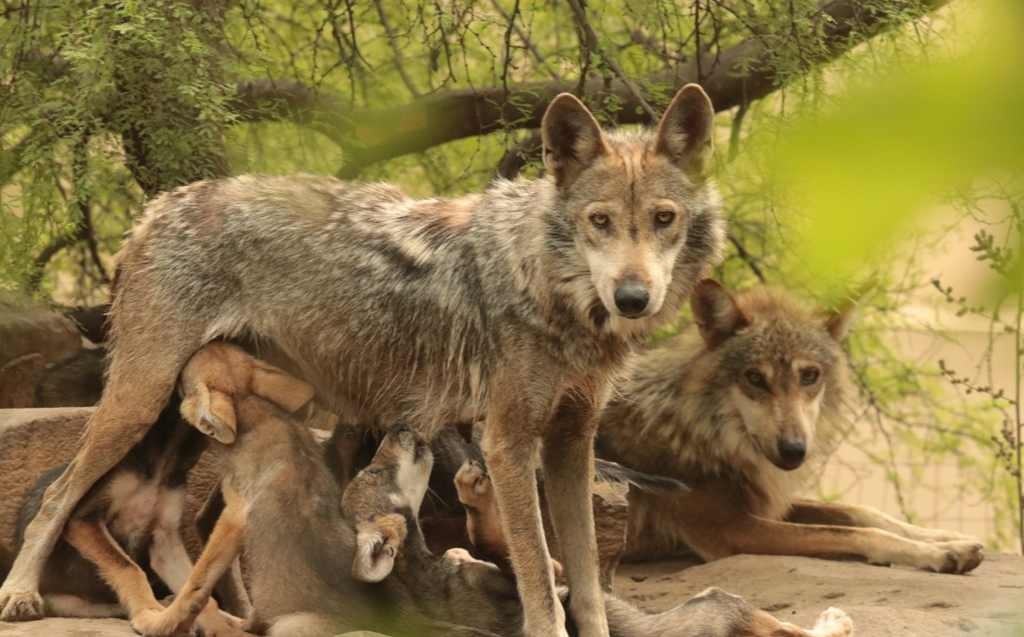Lobo: (140, 81, 742, 383), (157, 352, 366, 591), (677, 263, 887, 489), (344, 404, 459, 598)
